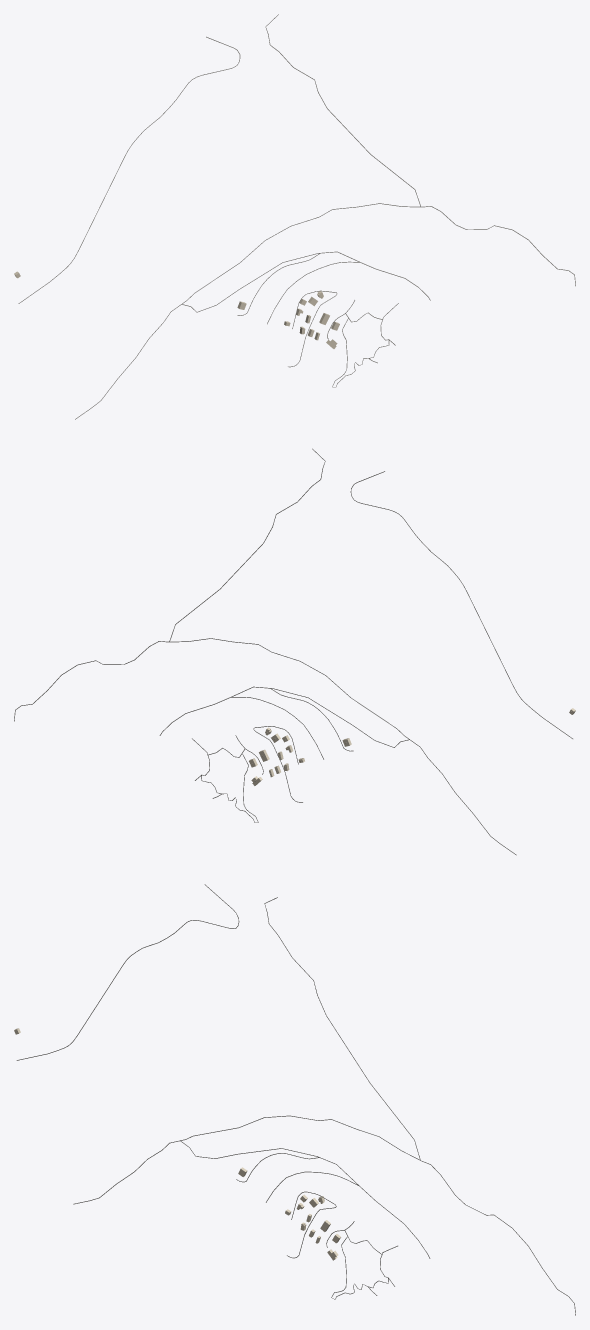
File: historic-palestine-11_28_3534_3222.glb
The picture shows the model from 3 angles, top to bottom: view 1: azimuth 30°, elevation 25°; view 2: azimuth 150°, elevation 25°; view 3: azimuth 330°, elevation 25°; orthographic projection.
Parts seen in each view (by area): view 1: Road .005; view 2: Road .005; view 3: Road .005.
Part boxes in pixels (x1,y1,x2,y2): Road .005: (75,203,575,419); Road .005: (14,638,516,855); Road .005: (73,1115,575,1315).
Size of the model in its own units: 1273 by 841 by 8.7.
